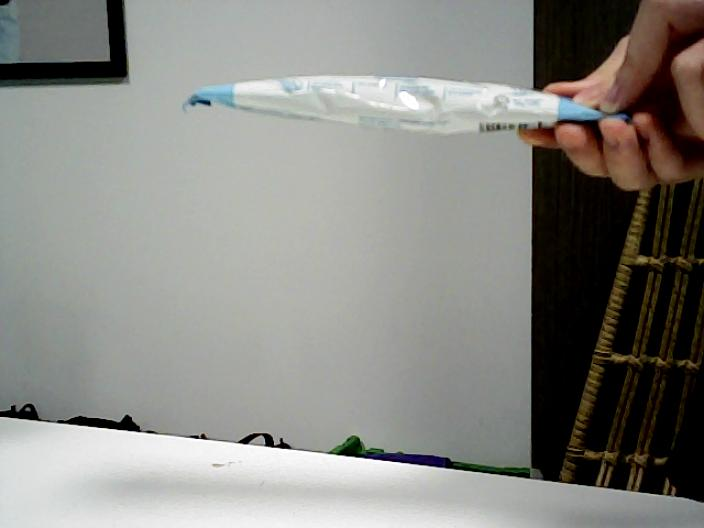Adult_Milk_0-99g_Halal_NonHealthy: (273, 80, 535, 124)
